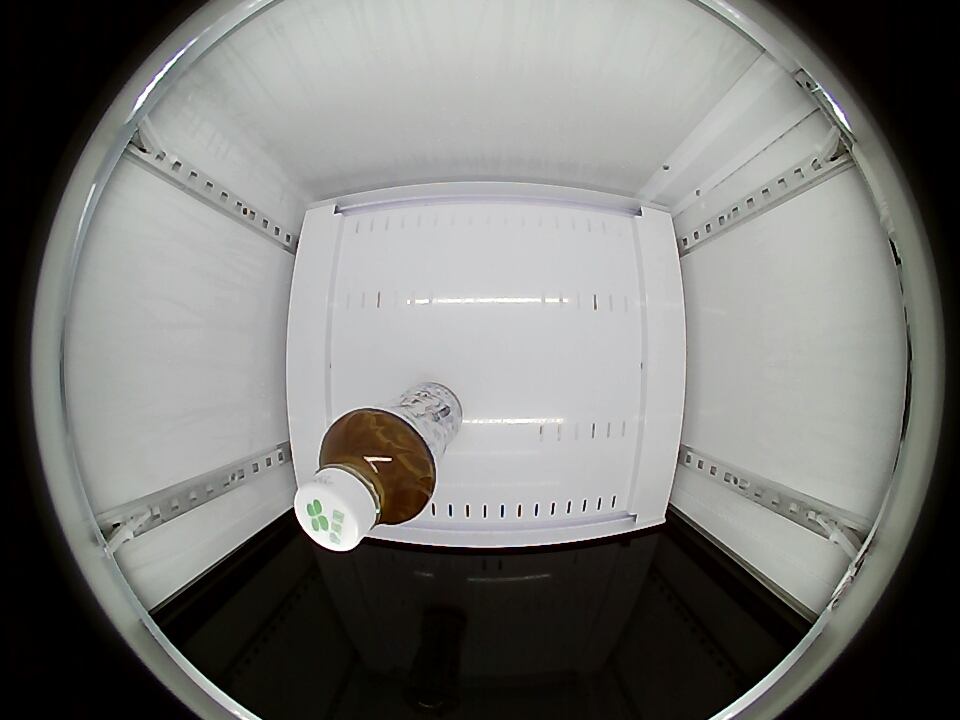baicha: (294, 410, 436, 551)
